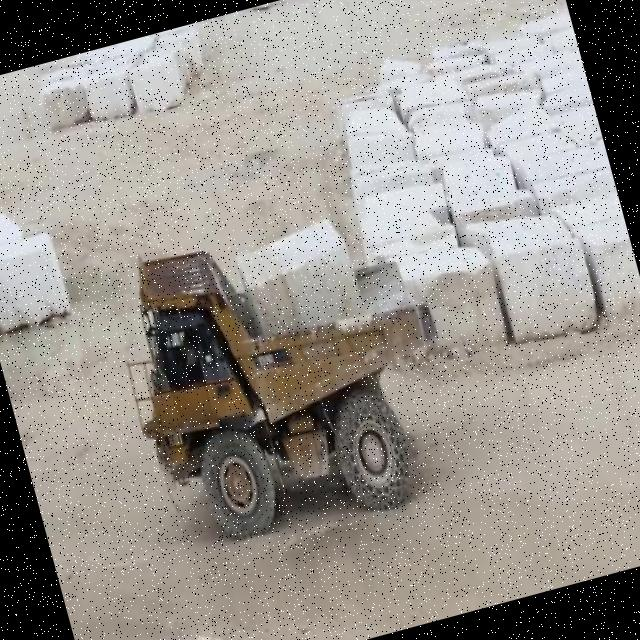Dump Truck: (89, 177, 482, 574)
